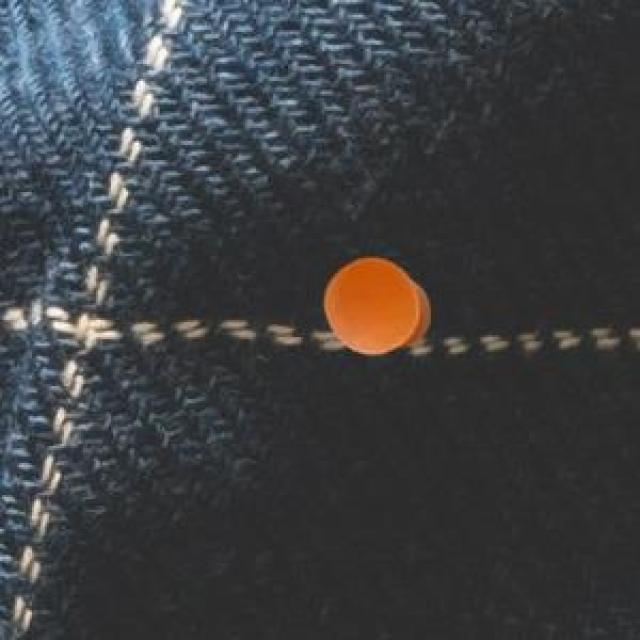Bactidol: (306, 248, 439, 377)
